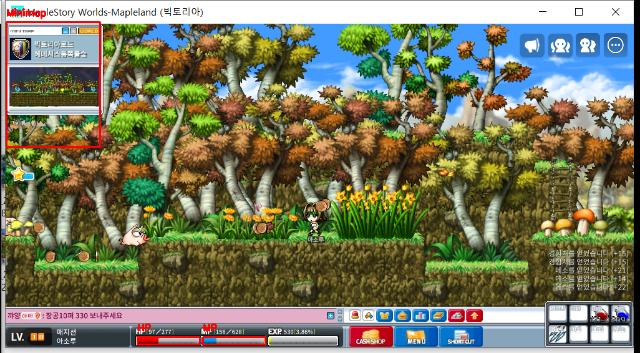me: (300, 200, 324, 244)
pig: (120, 224, 150, 246), (6, 217, 10, 237)
